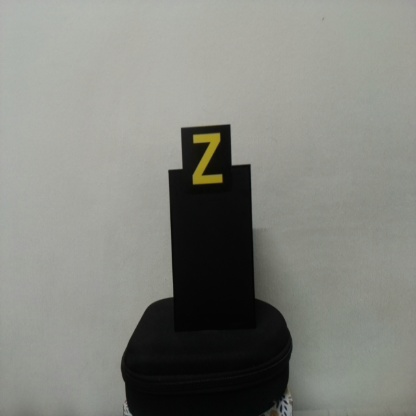id_15: (182, 127, 231, 194)
